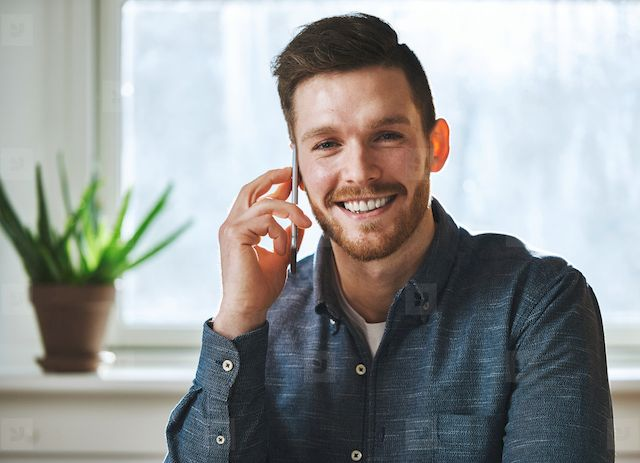phone: (282, 143, 311, 273)
talk: (216, 107, 424, 296)
